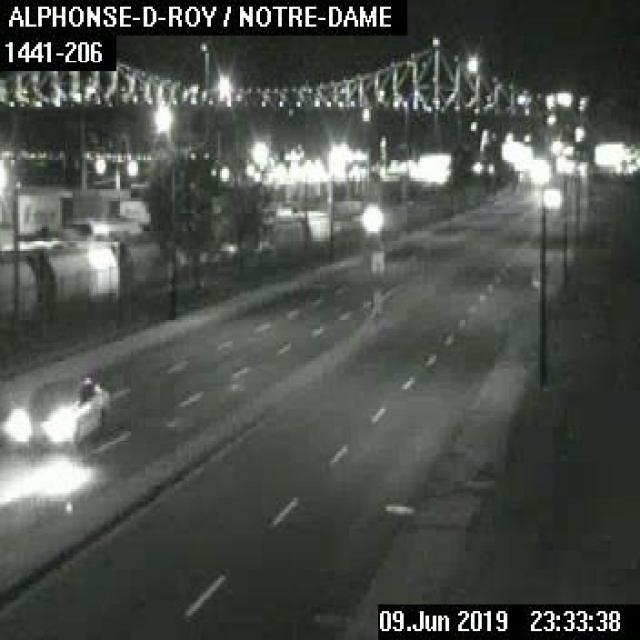vehicle: (4, 371, 109, 447)
